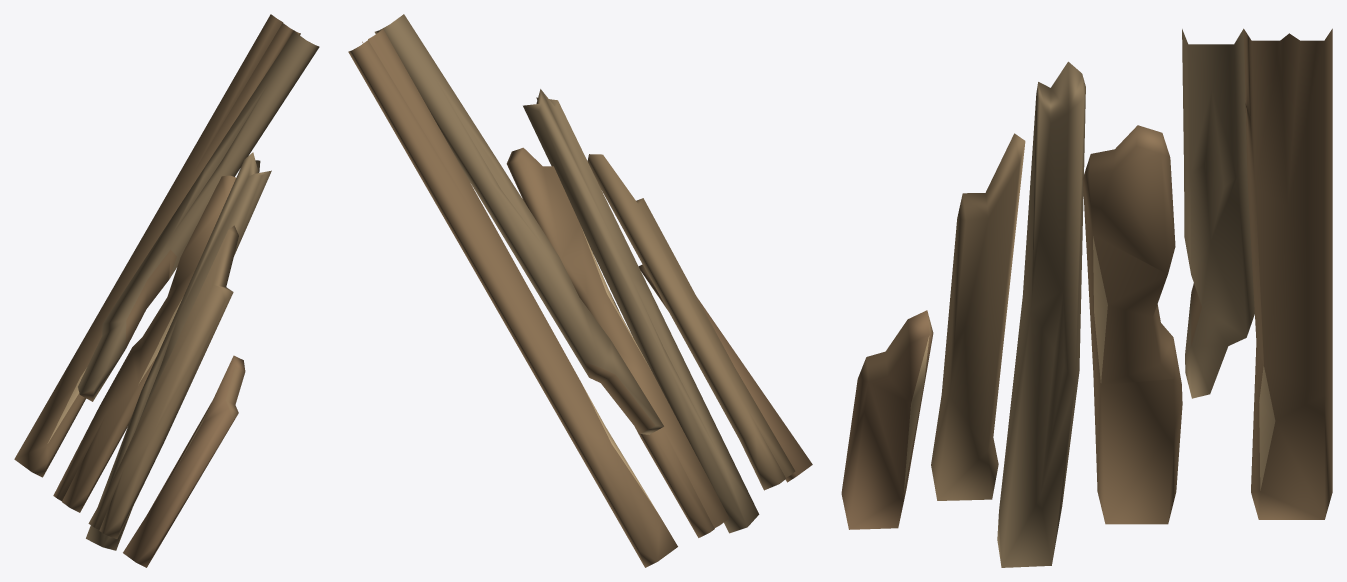
Rendered from rpgpp_av_roof_02_6x5x3_half_d.gltf.
The picture shows the model from 3 angles, left to right: view 1: azimuth 30°, elevation 25°; view 2: azimuth 150°, elevation 25°; view 3: azimuth 270°, elevation 25°; orthographic projection. The views are drawn at different scales.
Visible parts, largest first — view 1: rpgpp_av_roof_02_6x5x3_half_d; view 2: rpgpp_av_roof_02_6x5x3_half_d; view 3: rpgpp_av_roof_02_6x5x3_half_d.
Boxes of the visible parts, x1,y1,x2,y2 form: rpgpp_av_roof_02_6x5x3_half_d: [14, 14, 319, 567]; rpgpp_av_roof_02_6x5x3_half_d: [348, 14, 812, 567]; rpgpp_av_roof_02_6x5x3_half_d: [841, 28, 1332, 567].
Bounding box in the file's own units: 0.0372 × 0.052 × 0.0299.
Materials: 1 (1 with a texture image).
